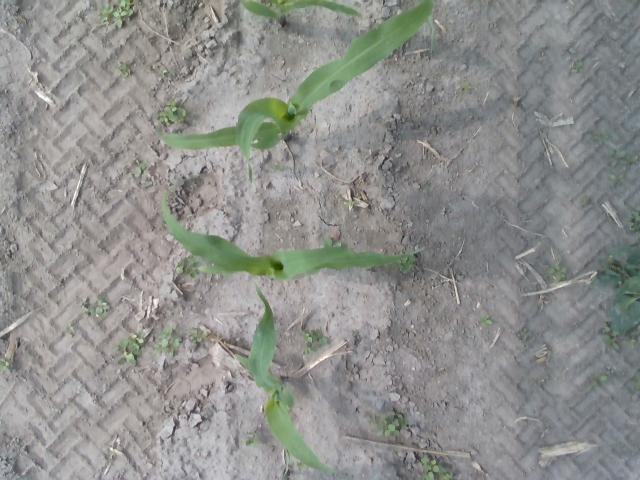Maize: (155, 0, 435, 180), (234, 283, 378, 480), (162, 178, 424, 284), (238, 0, 435, 53)
Weeds: (595, 240, 640, 351), (113, 332, 147, 366), (370, 412, 407, 437), (99, 0, 132, 28), (153, 326, 180, 357), (419, 456, 452, 480), (156, 100, 186, 126), (300, 330, 328, 356), (80, 294, 110, 317), (176, 253, 202, 279), (608, 147, 638, 166), (546, 262, 568, 282), (396, 250, 416, 272), (625, 210, 640, 234), (126, 162, 146, 178), (245, 430, 262, 448), (189, 326, 205, 344), (590, 130, 611, 143), (590, 375, 608, 390), (323, 237, 342, 248), (64, 322, 76, 339), (480, 314, 493, 328), (632, 370, 640, 392), (520, 327, 533, 340), (118, 63, 130, 77), (570, 60, 584, 72), (297, 460, 309, 472), (342, 198, 356, 206), (462, 82, 472, 93), (0, 358, 8, 371), (608, 174, 624, 180), (530, 379, 538, 386), (424, 181, 430, 189), (162, 70, 168, 76), (275, 166, 284, 170)
